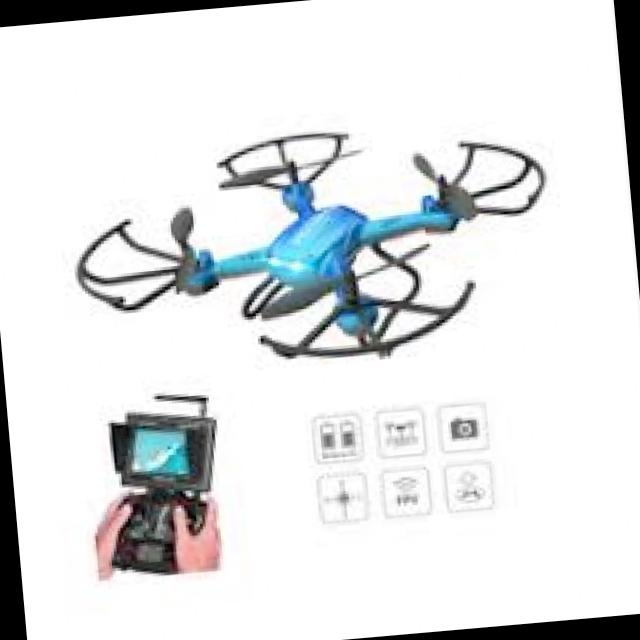drone: (39, 79, 592, 382)
